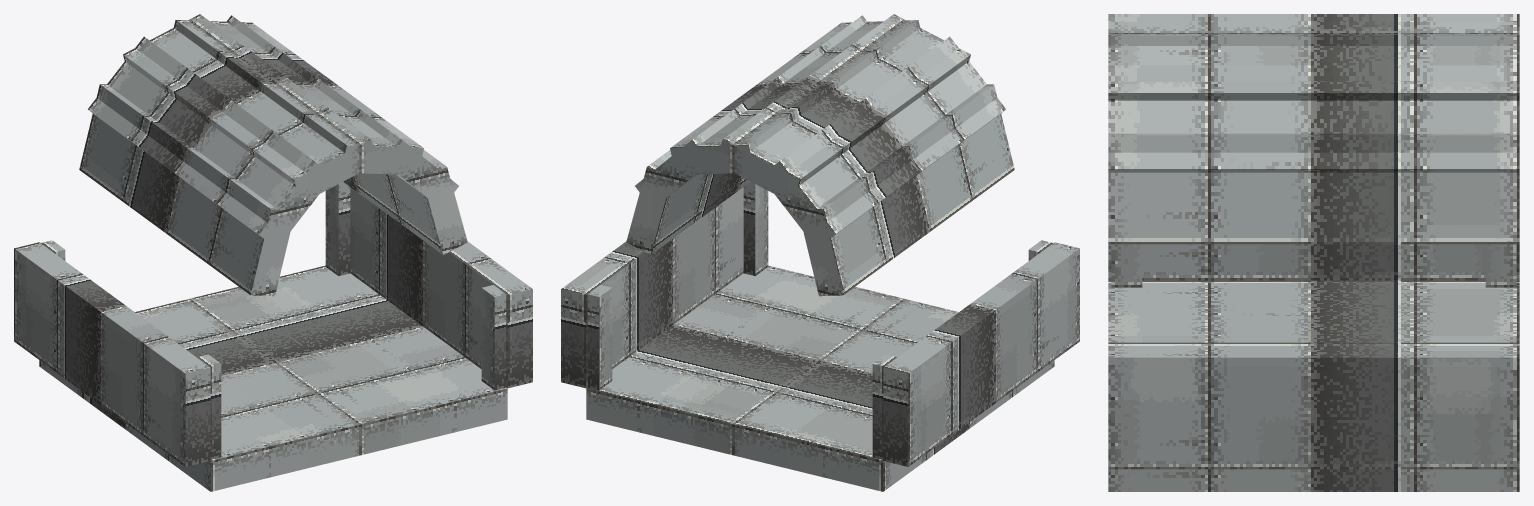
The model's file is arch_tunnel_bore.glb.
3 views of the same model, side by side, from view 1: azimuth 30°, elevation 25°; view 2: azimuth 150°, elevation 25°; view 3: azimuth 270°, elevation 25° (orthographic). The views are drawn at different scales.
Visible parts, largest first — view 1: arch_tunnel_bore; view 2: arch_tunnel_bore; view 3: arch_tunnel_bore.
Boxes of the visible parts, x1,y1,x2,y2 form: arch_tunnel_bore: (14,14,532,491); arch_tunnel_bore: (561,14,1079,491); arch_tunnel_bore: (1108,14,1519,491).
Size of the model in its own units: 4.68 by 4.03 by 4.
Materials: 1 (1 with a texture image).
